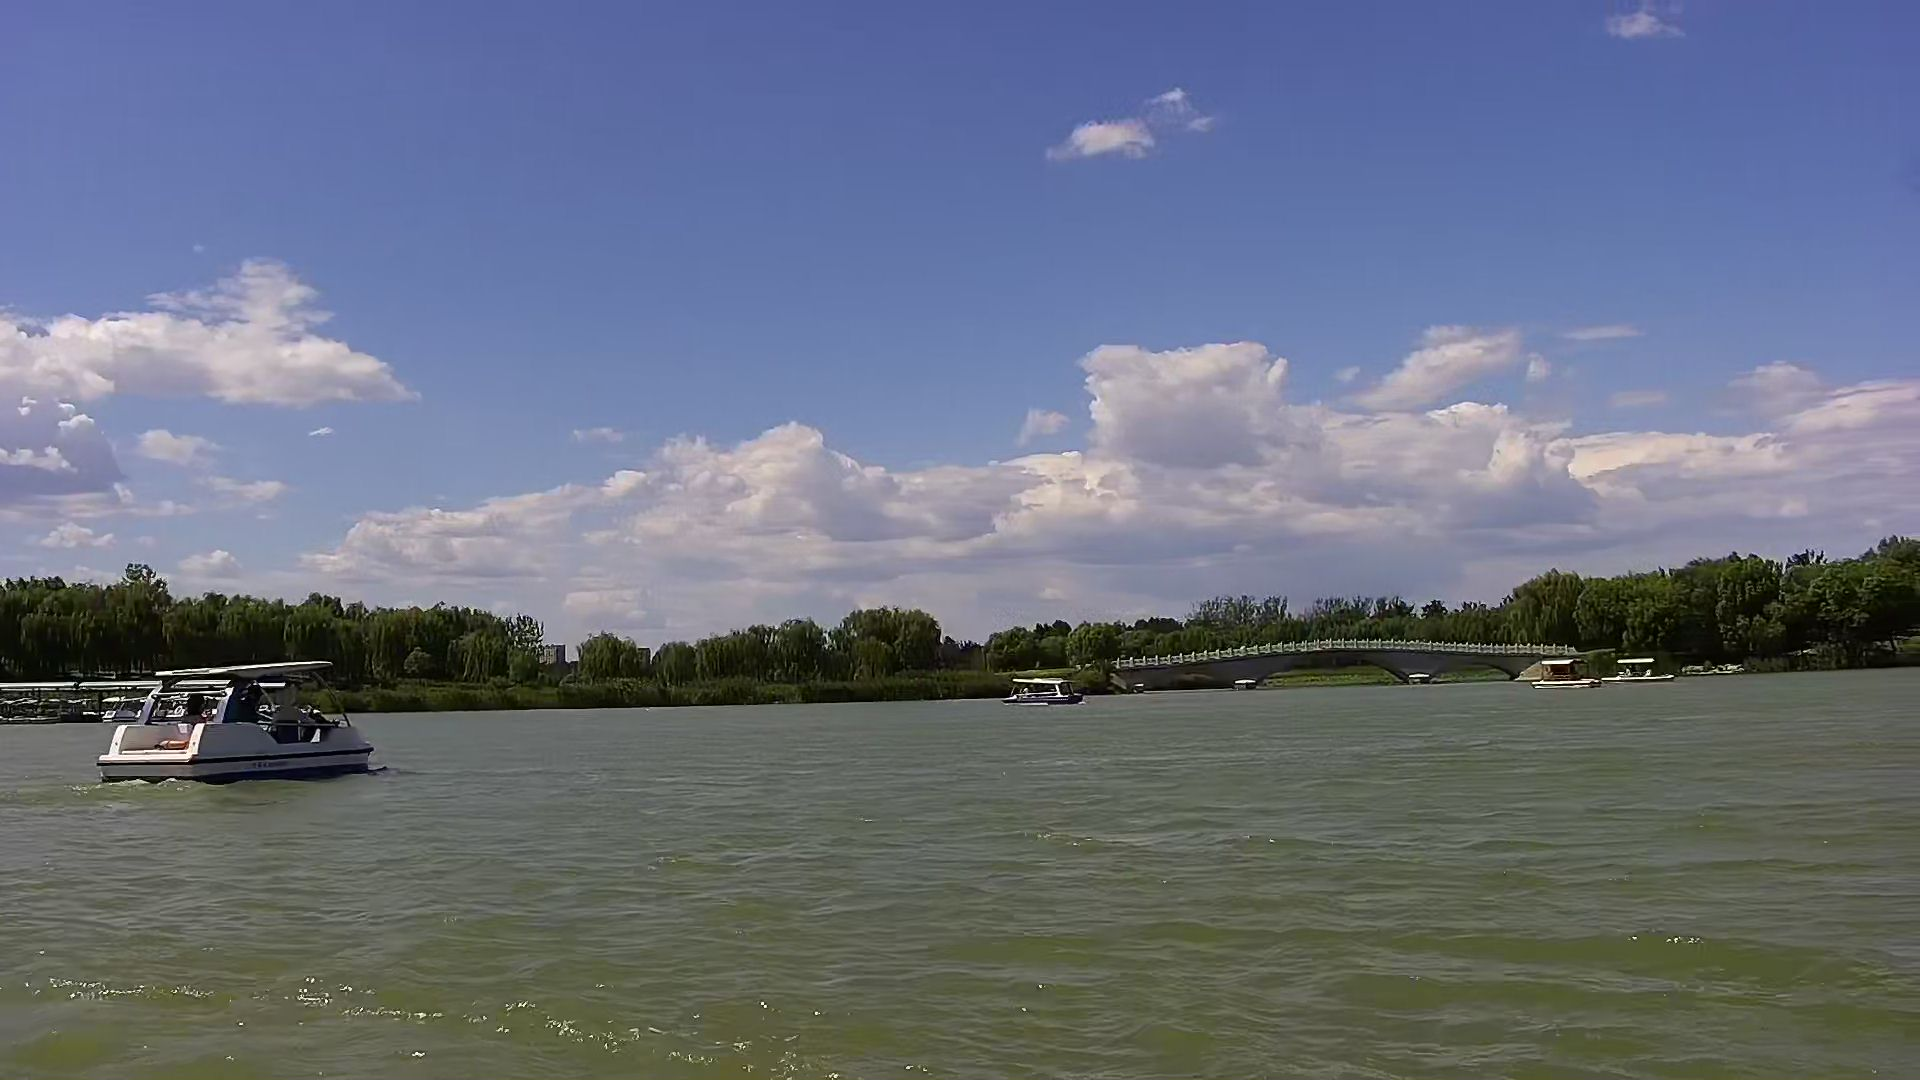boat: (95, 650, 397, 782), (1527, 649, 1615, 699), (996, 669, 1087, 713), (1611, 641, 1665, 695)
bridge: (1120, 630, 1527, 694)
